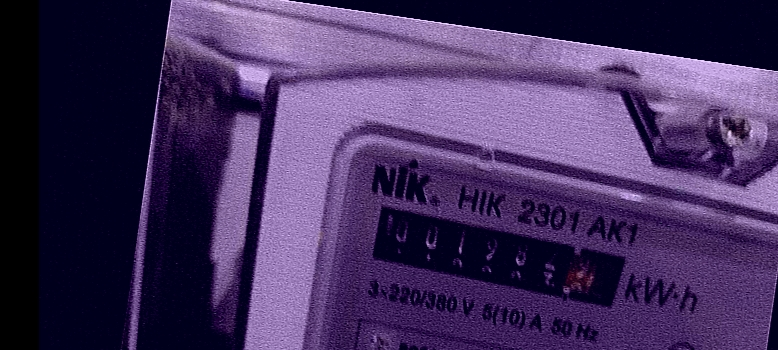0: (421, 221, 442, 253), (391, 214, 411, 245)
1: (452, 226, 468, 256)
2: (541, 242, 563, 273)
8: (511, 239, 531, 269)
9: (571, 252, 595, 283), (481, 233, 500, 264)
screen: (351, 190, 643, 325)
